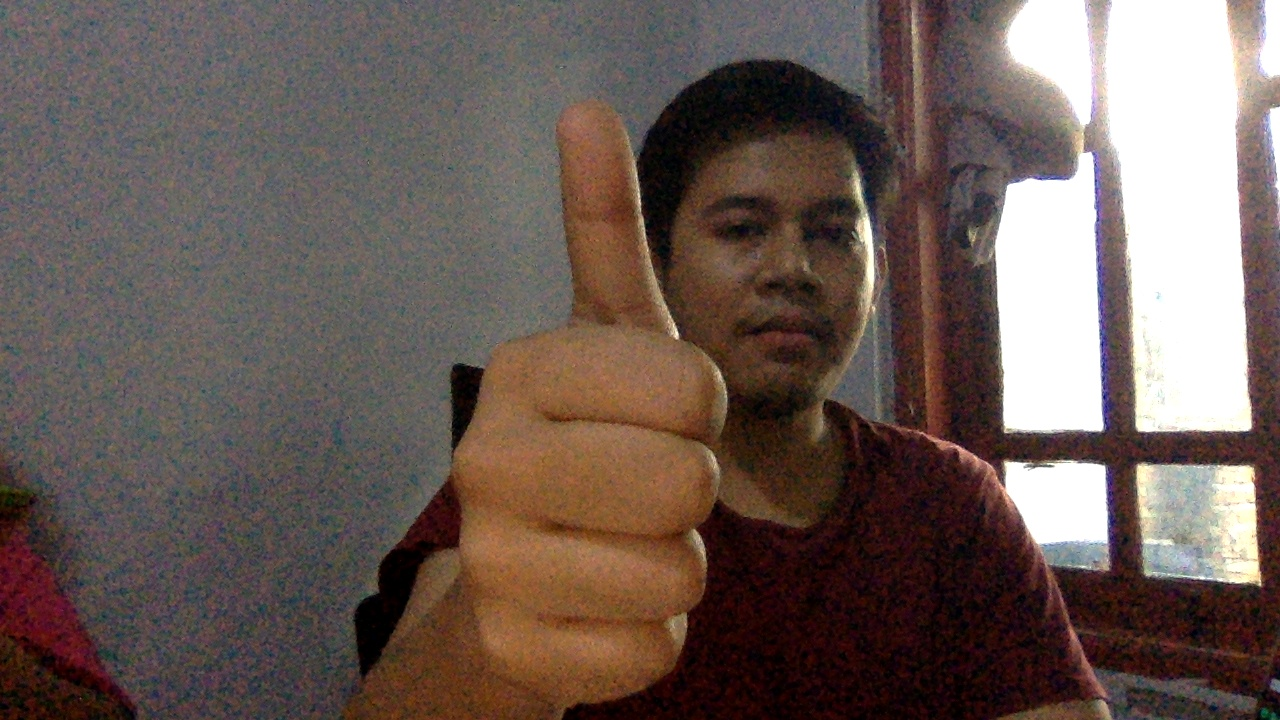thumbsup: (416, 68, 747, 713)
